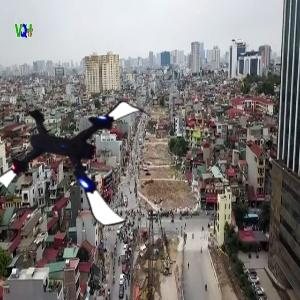drone: (10, 80, 152, 222)
